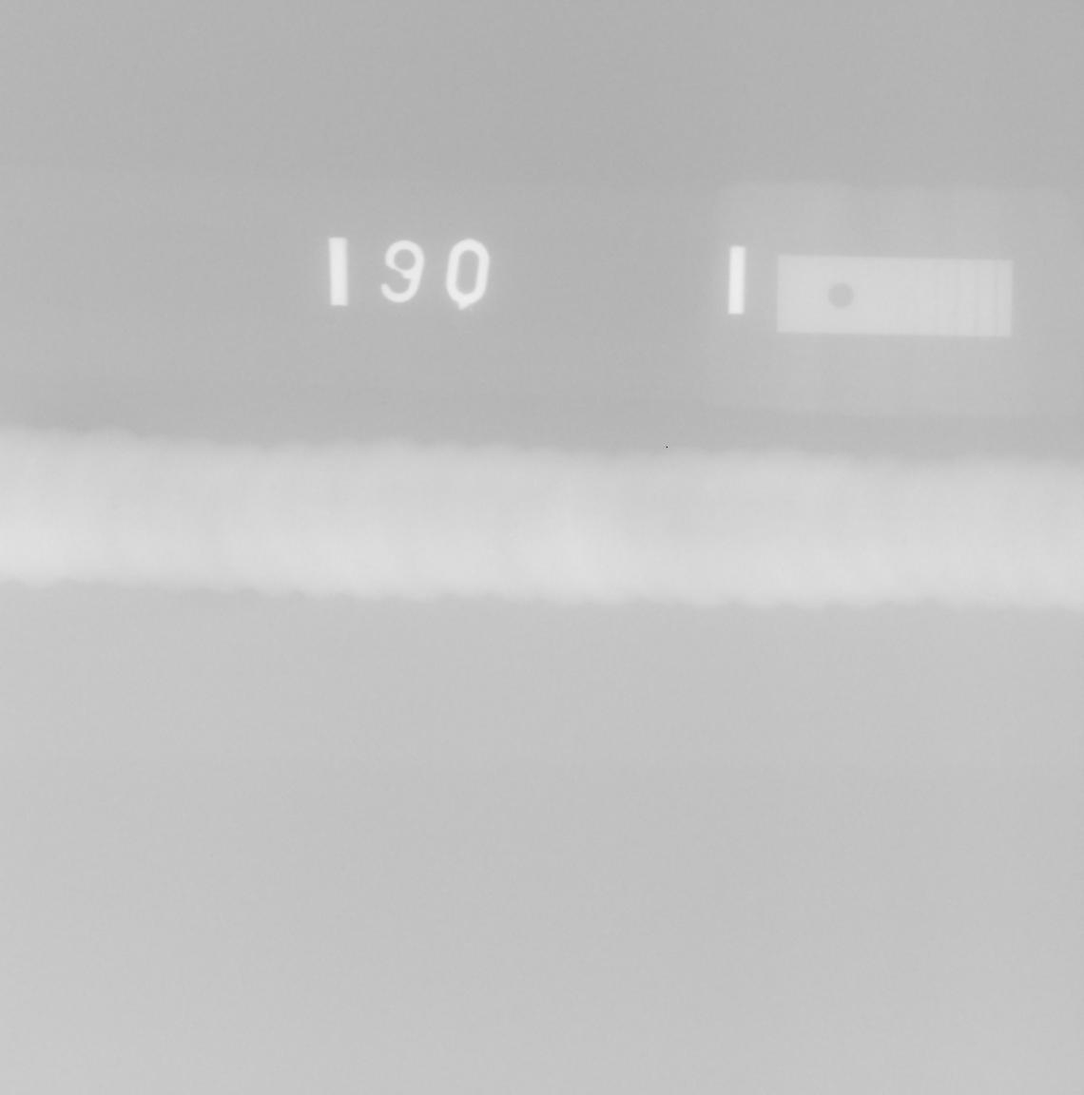Pore/Porosity: (110, 504, 116, 510), (84, 478, 93, 481), (131, 469, 137, 472)
Reference Standard 1: (776, 255, 1012, 337)
